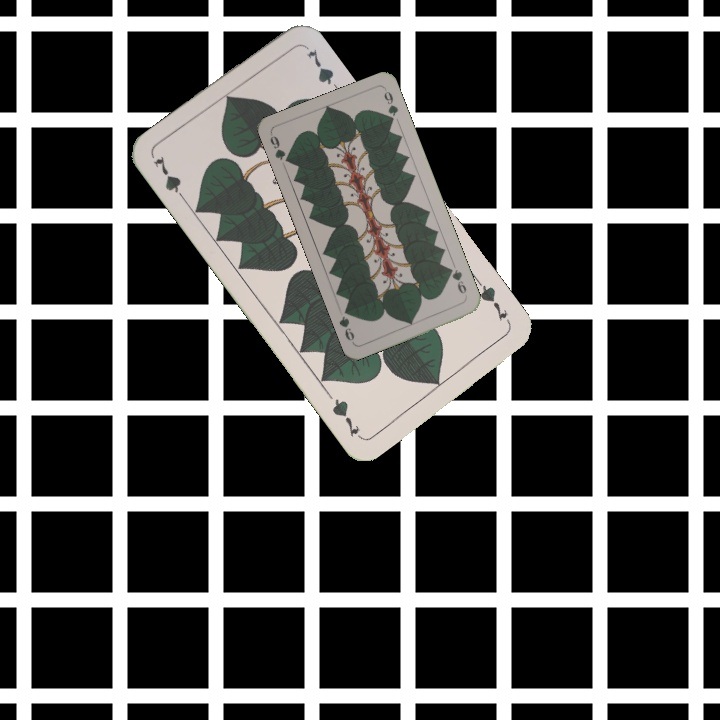G7: (149, 152, 190, 206), (473, 277, 511, 324)
G9: (266, 130, 294, 166), (444, 264, 470, 301)
